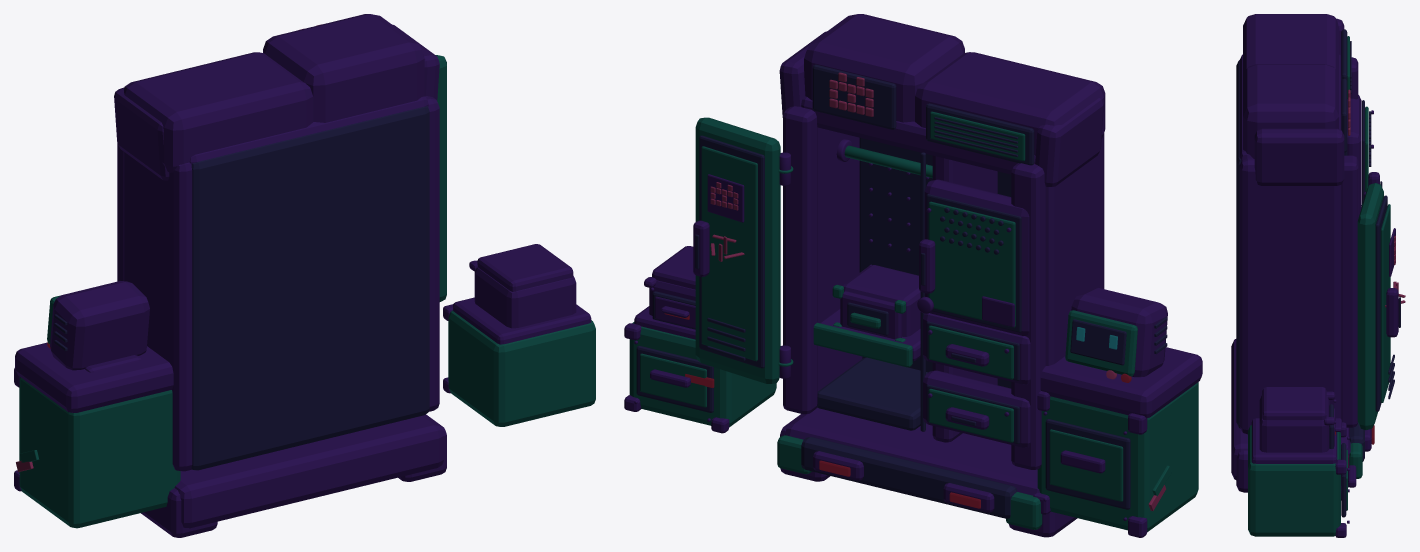
The model's file is prp_base_locker_station_visual_top3d_v001.glb.
3 renders of one model, left to right at view 1: azimuth 30°, elevation 25°; view 2: azimuth 150°, elevation 25°; view 3: azimuth 270°, elevation 25°, orthographic. The views are drawn at different scales.
Visible parts, largest first — view 1: Body; view 2: Body, Emissive; view 3: Body.
Boxes of the visible parts, left/top/right/bottom form: Body: left=14, top=14, right=595, bottom=537; Body: left=624, top=14, right=1202, bottom=537; Emissive: left=664, top=313, right=1131, bottom=508; Body: left=1231, top=14, right=1405, bottom=537.
Size of the model in its own units: 4.51 by 3.52 by 1.47.
Materials: 4 (4 with a texture image).
